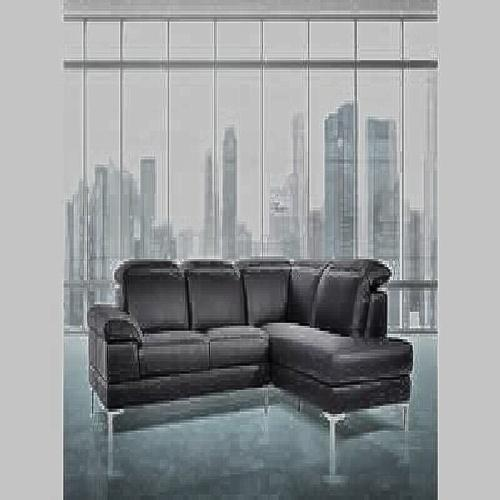sofa: (103, 260, 406, 423)
